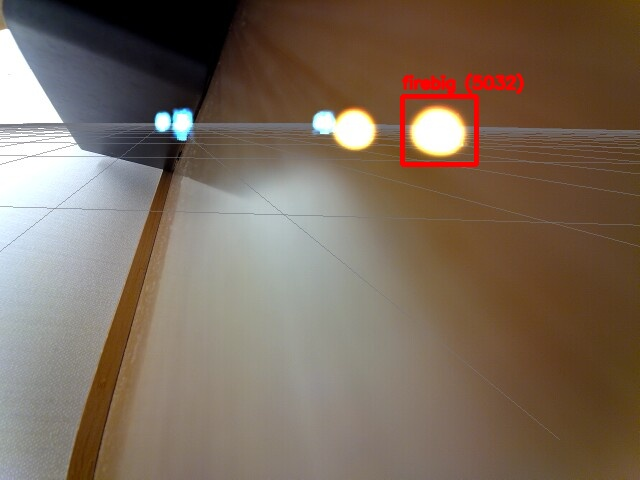firebig: (402, 96, 476, 164)
